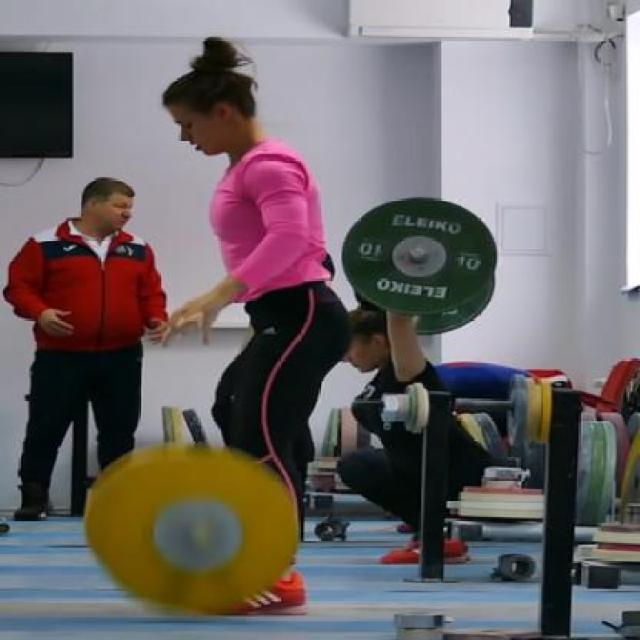barbell: (77, 436, 317, 615), (339, 189, 514, 329)
